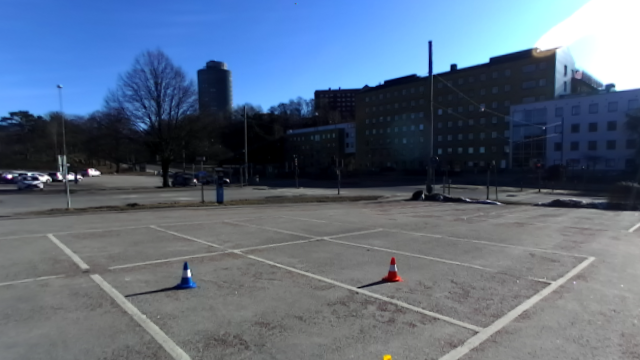blue: (171, 260, 199, 289)
orange: (381, 255, 403, 284)
